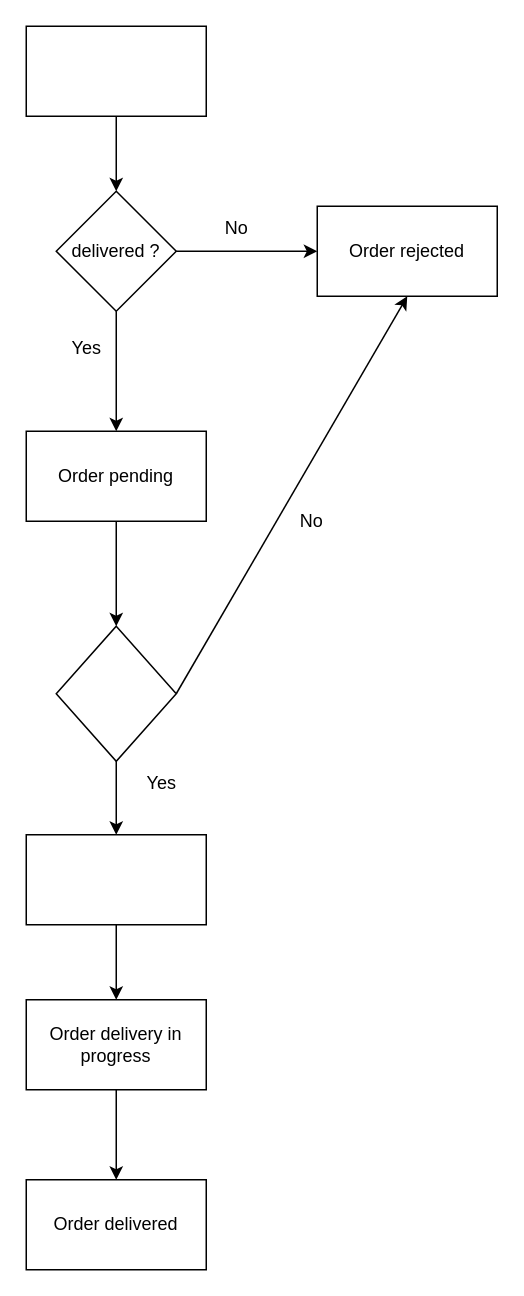
Some shapes in this 524 by 1296 pixel diagram are drawn without their labels. Each missing label, with the centre of its shape:
"Order accepted" goes at (x=115, y=879).
"order approved ?" goes at (x=115, y=693).
"Order request sent" goes at (x=115, y=70).
